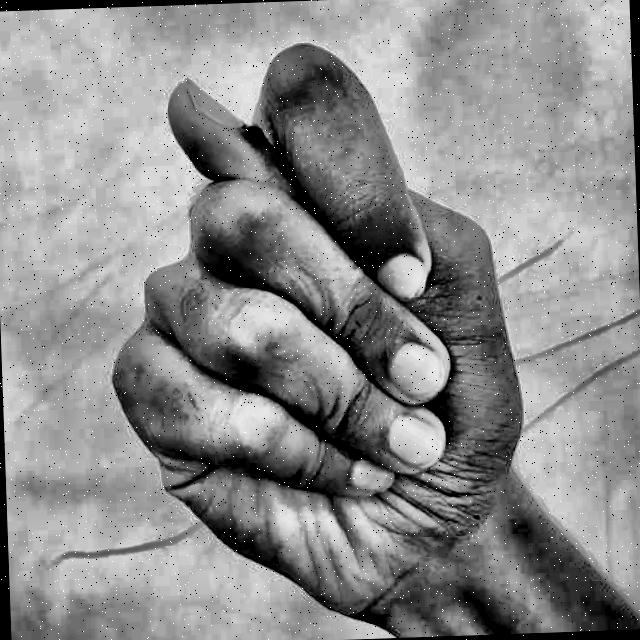Ta: (88, 15, 586, 640)
